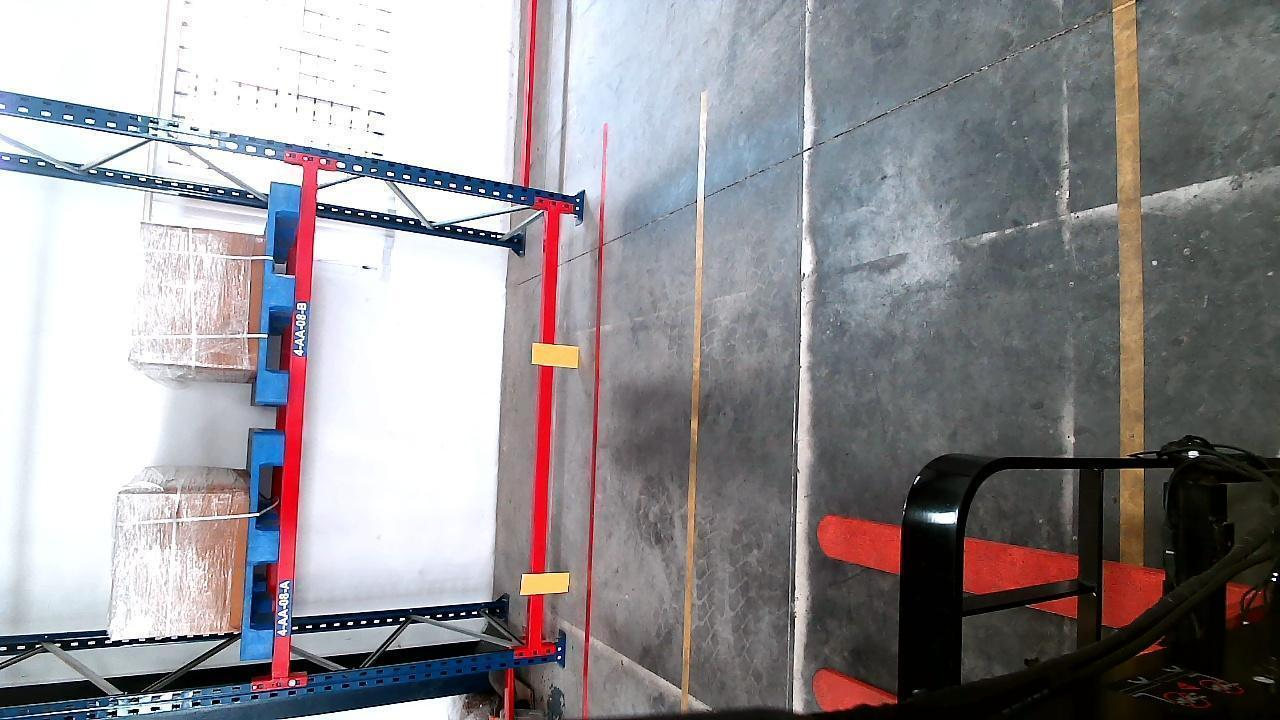red_line: (580, 122, 611, 718)
yellow_line: (675, 89, 708, 712), (1114, 0, 1147, 521)
